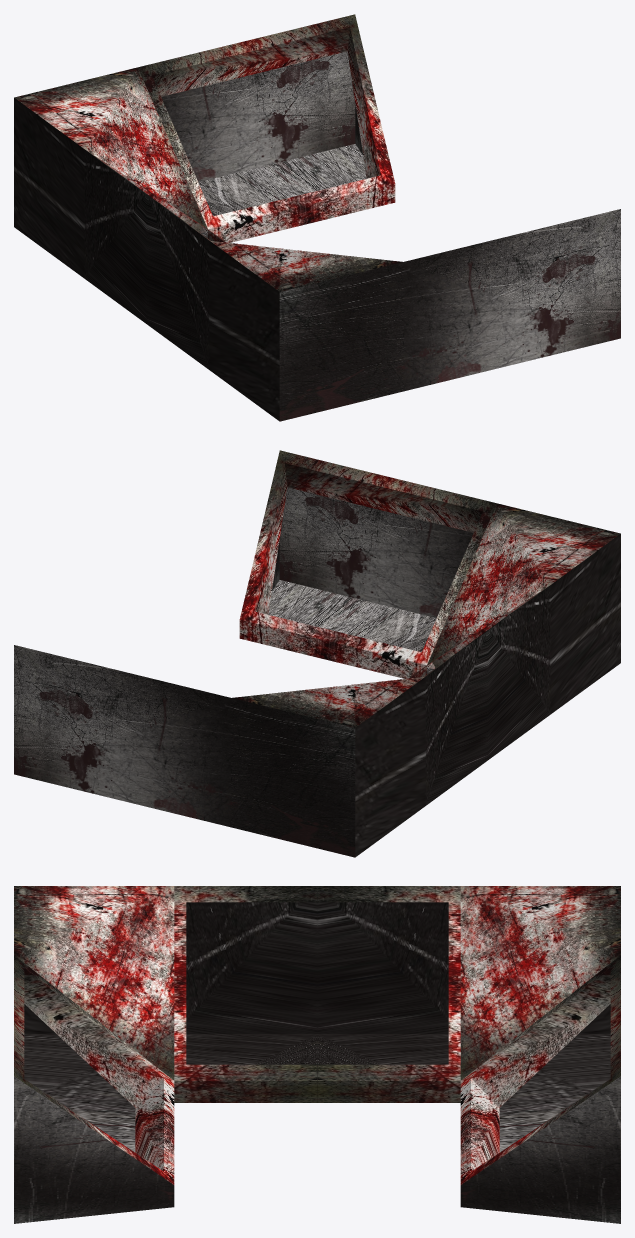
The model's file is Internal Darkness Table ALONE.fbx.
The picture shows the model from 3 angles, top to bottom: view 1: azimuth 30°, elevation 25°; view 2: azimuth 150°, elevation 25°; view 3: azimuth 270°, elevation 25°; orthographic projection. The views are drawn at different scales.
Visible parts, largest first — view 1: Cube; view 2: Cube; view 3: Cube.
Boxes of the visible parts, <box> form: Cube: <box>14,14,620,421</box>; Cube: <box>14,450,620,857</box>; Cube: <box>14,886,620,1223</box>.
Bounding box in the file's own units: 711 × 258 × 959.
